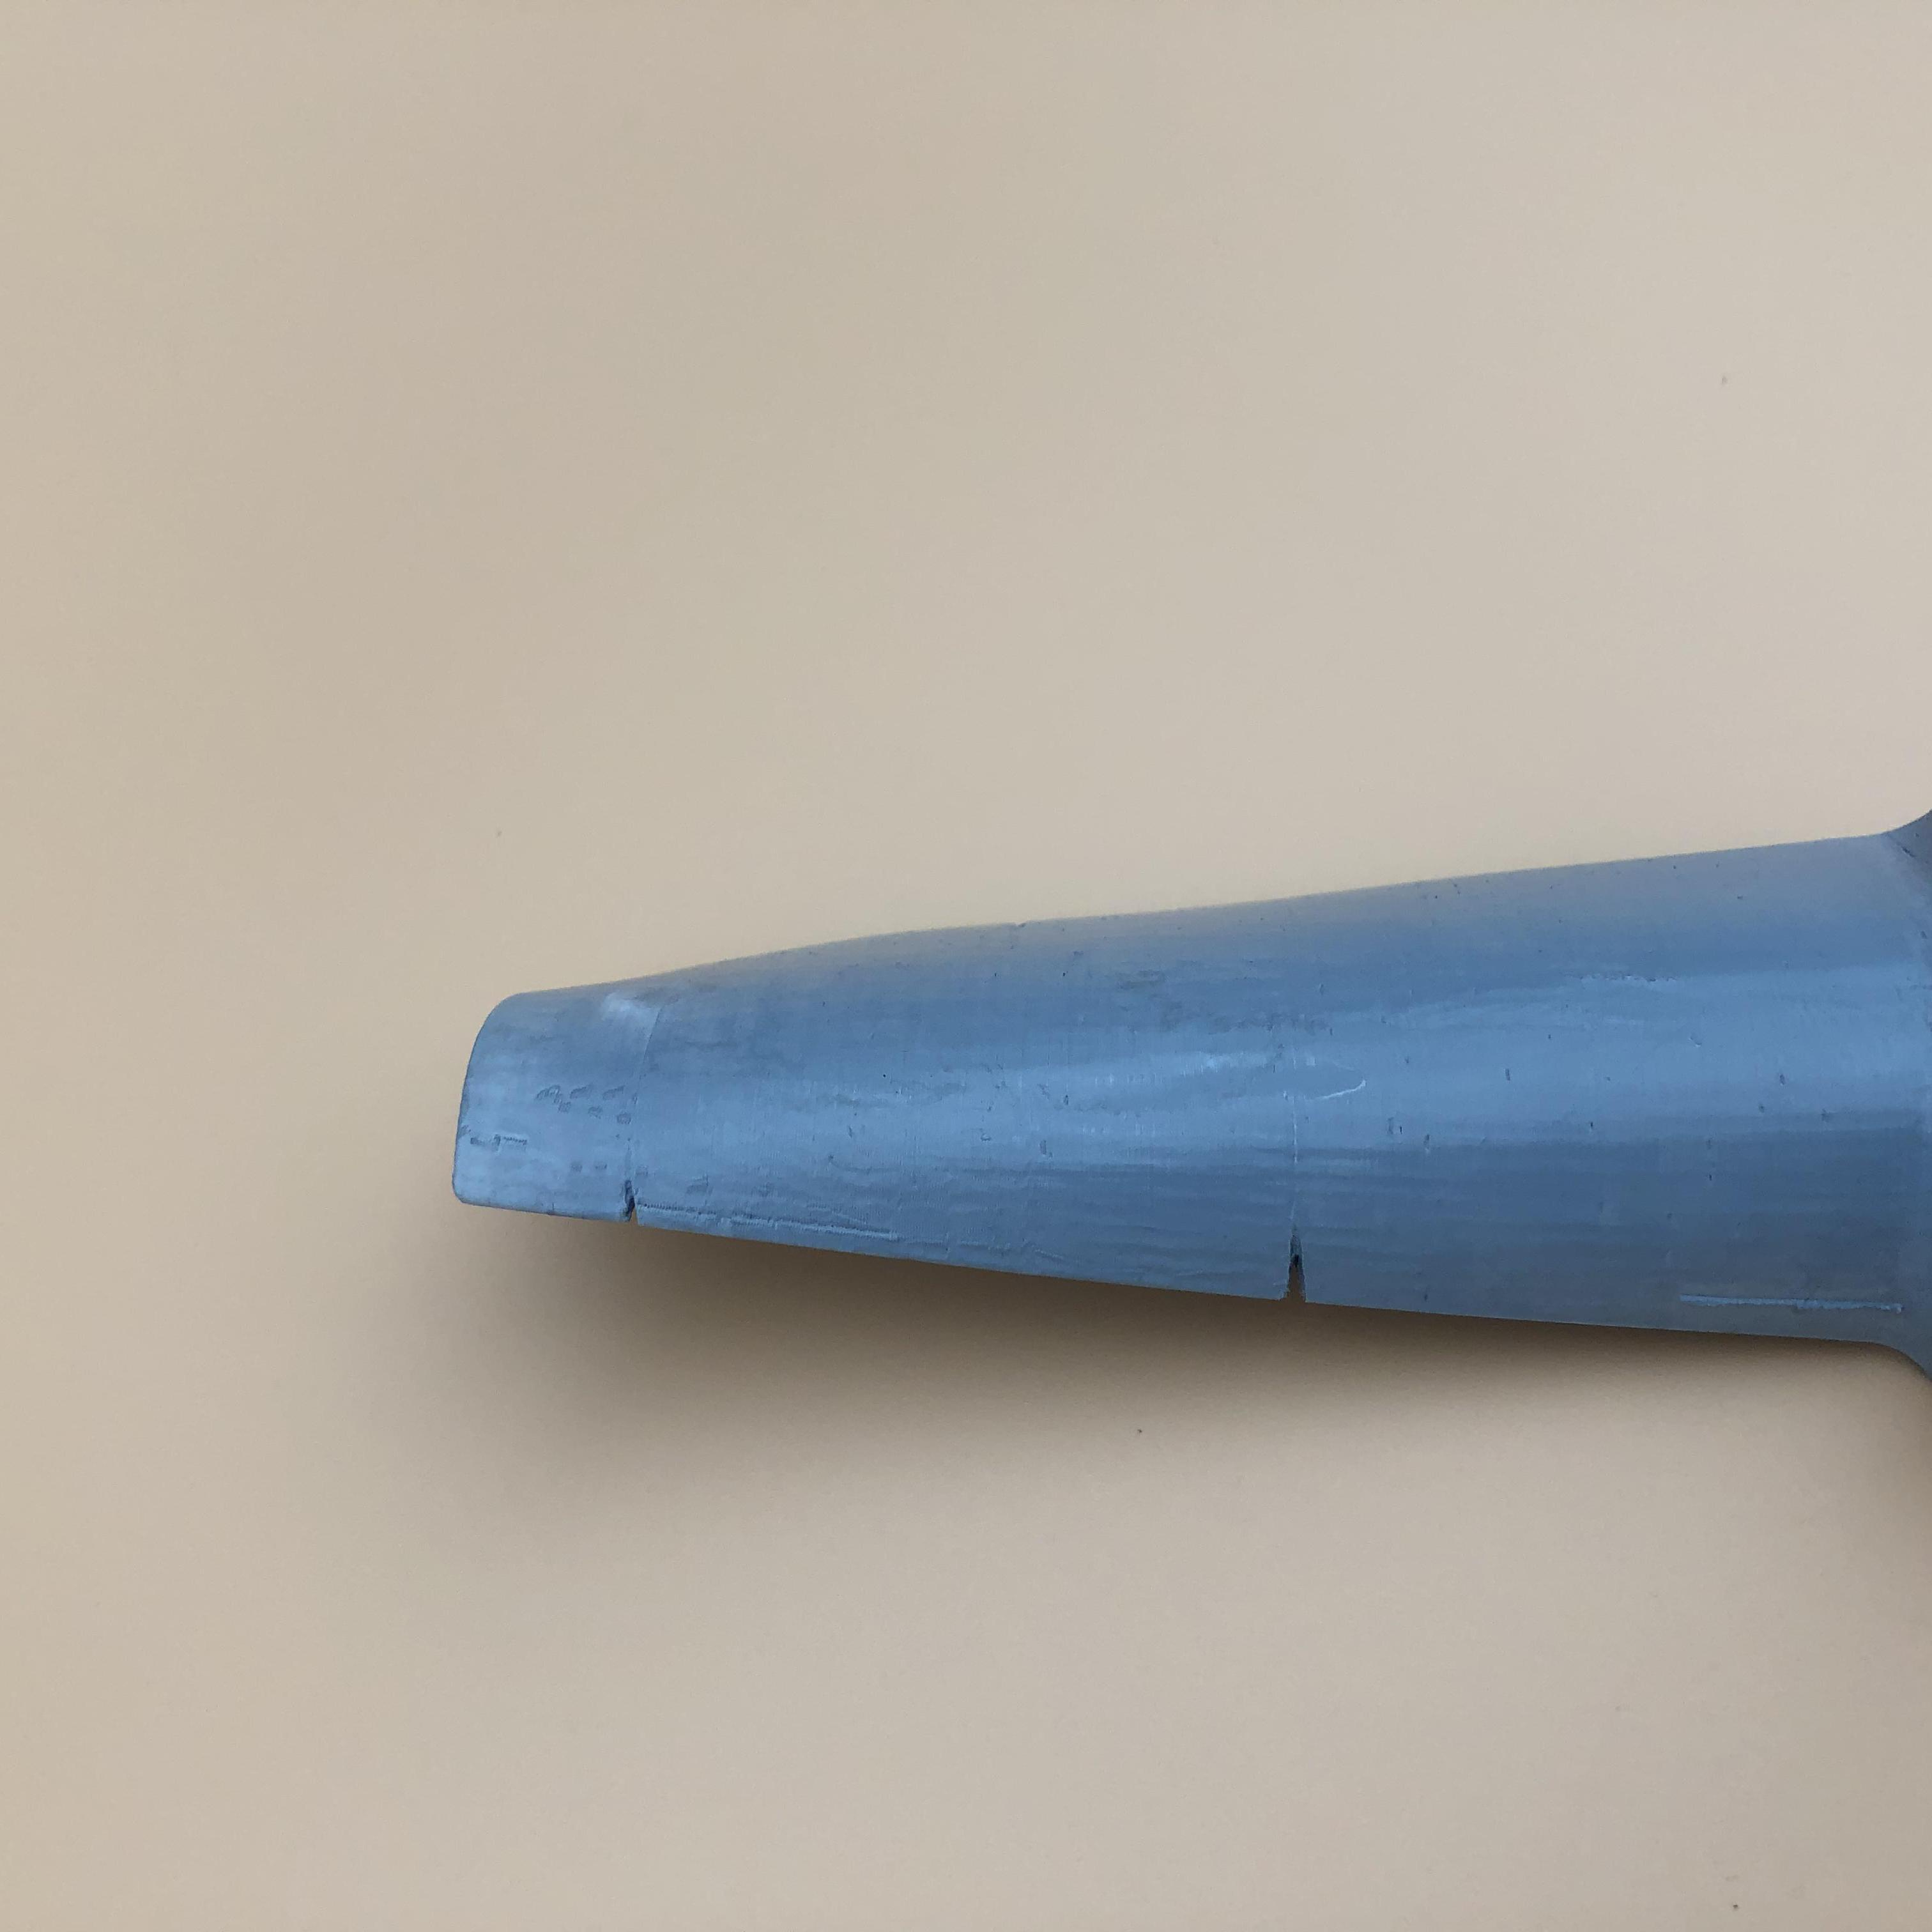groove: (1277, 1226, 1341, 1302), (607, 1182, 660, 1231)
